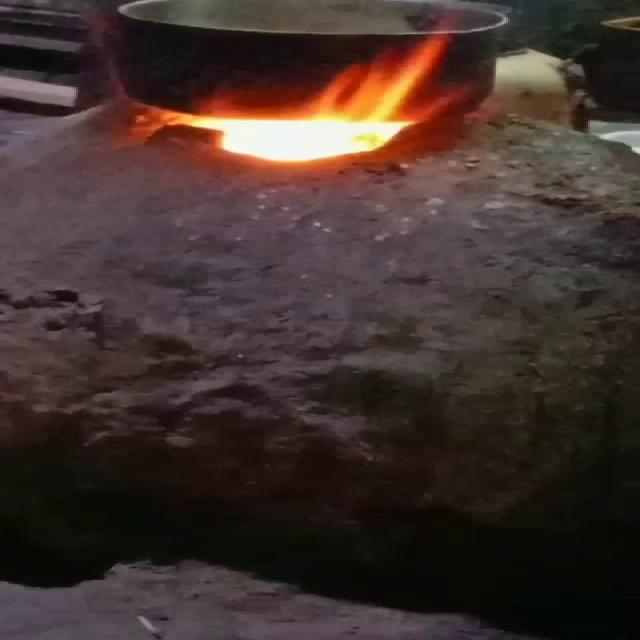Fire: (182, 45, 436, 166)
